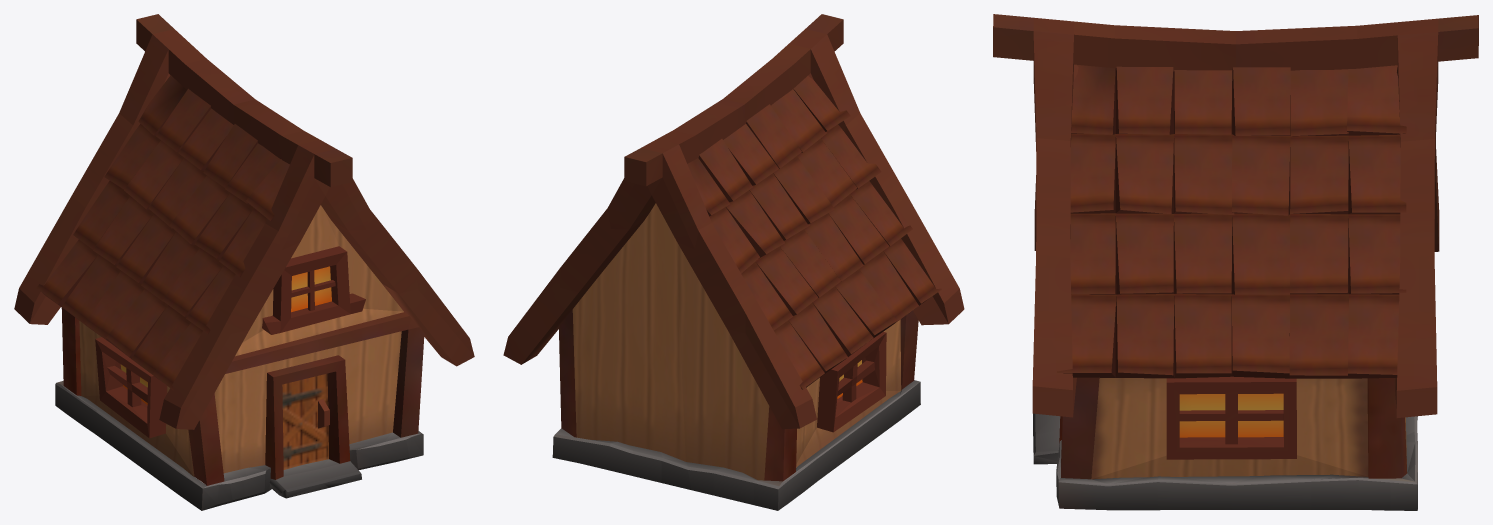
The model's file is House.fbx.
3 renders of one model, left to right at view 1: azimuth 30°, elevation 25°; view 2: azimuth 150°, elevation 25°; view 3: azimuth 270°, elevation 25°, orthographic. The views are drawn at different scales.
Parts seen in each view (by area): view 1: House; view 2: House; view 3: House.
Part boxes in pixels (bbox=[...]): House: bbox=[14, 14, 474, 510]; House: bbox=[503, 14, 964, 510]; House: bbox=[993, 14, 1478, 510].
Bounding box in the file's own units: 2.75 × 3 × 3.11.
